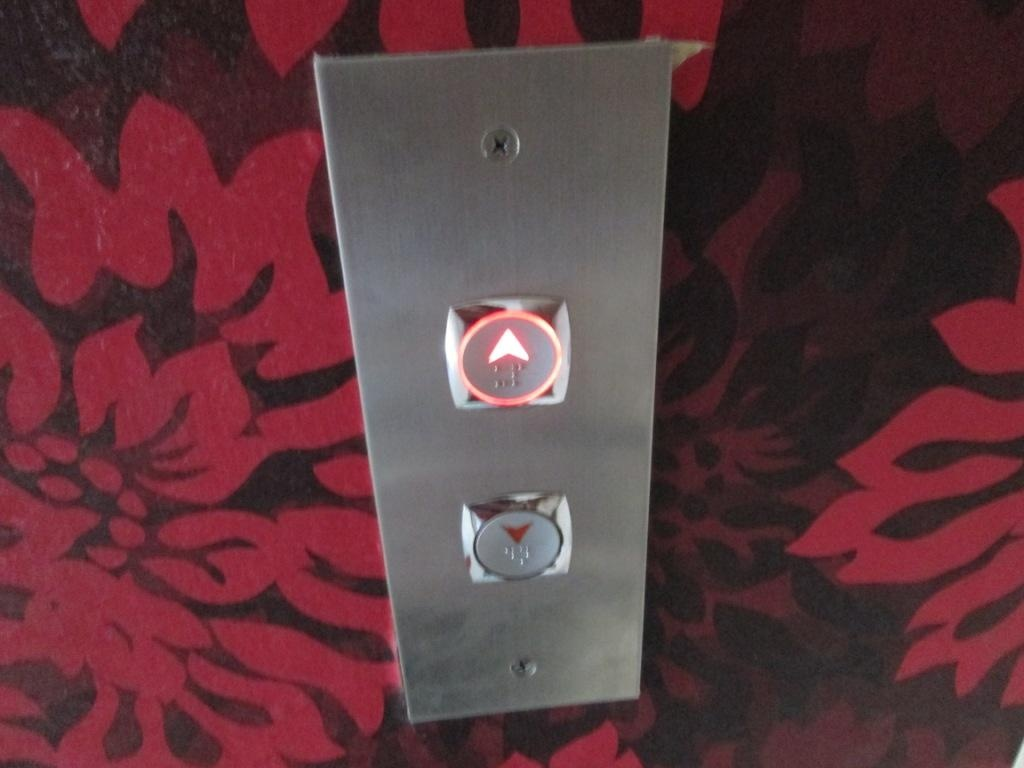down: (456, 487, 576, 589)
up: (438, 290, 576, 414)
